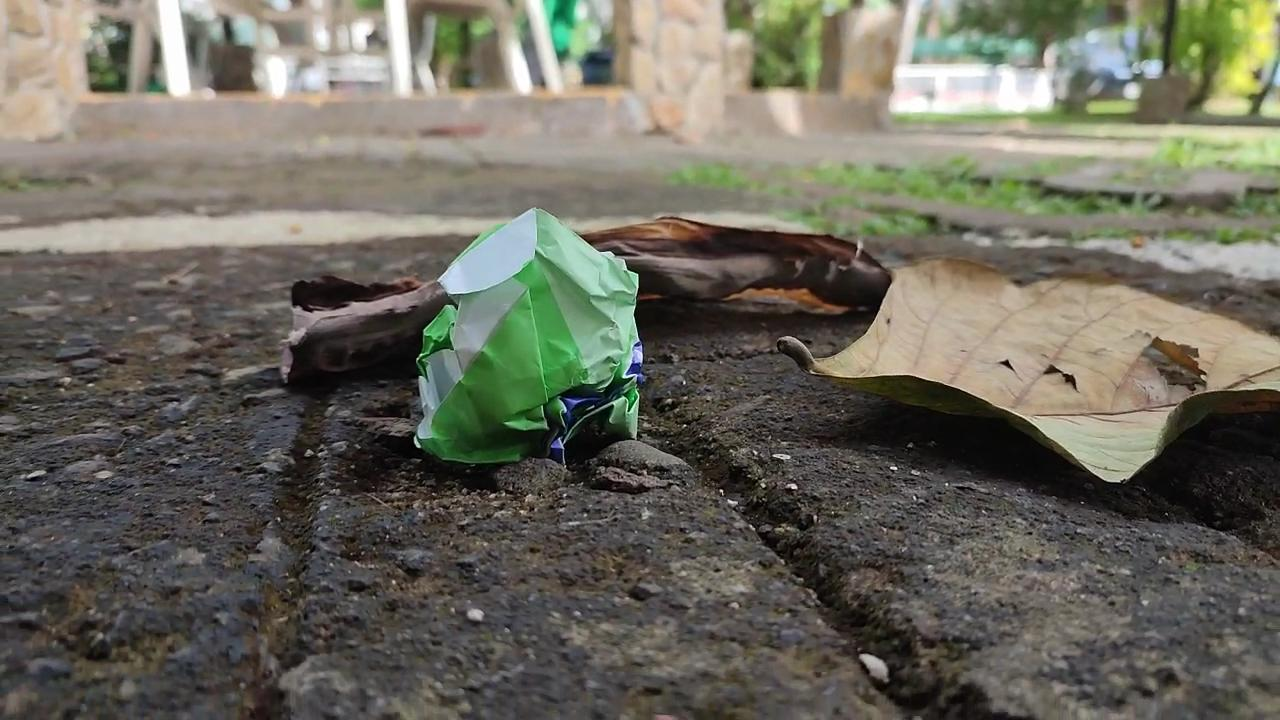Paper: (413, 200, 664, 471)
